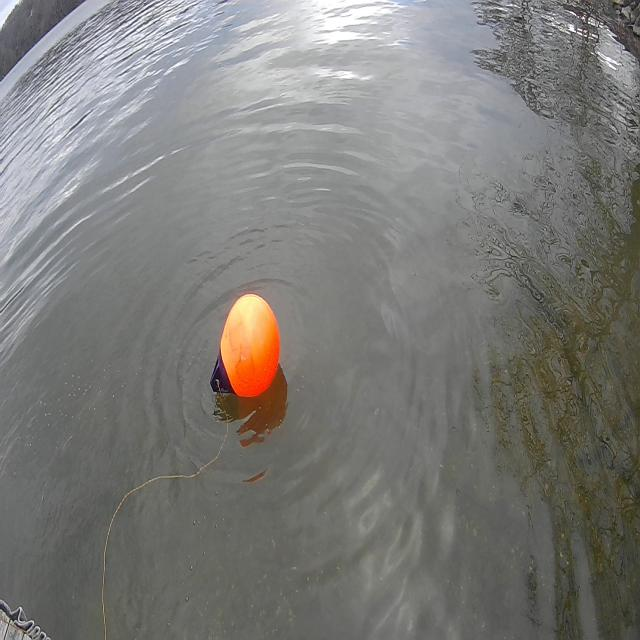Buoy: (206, 286, 286, 404)
